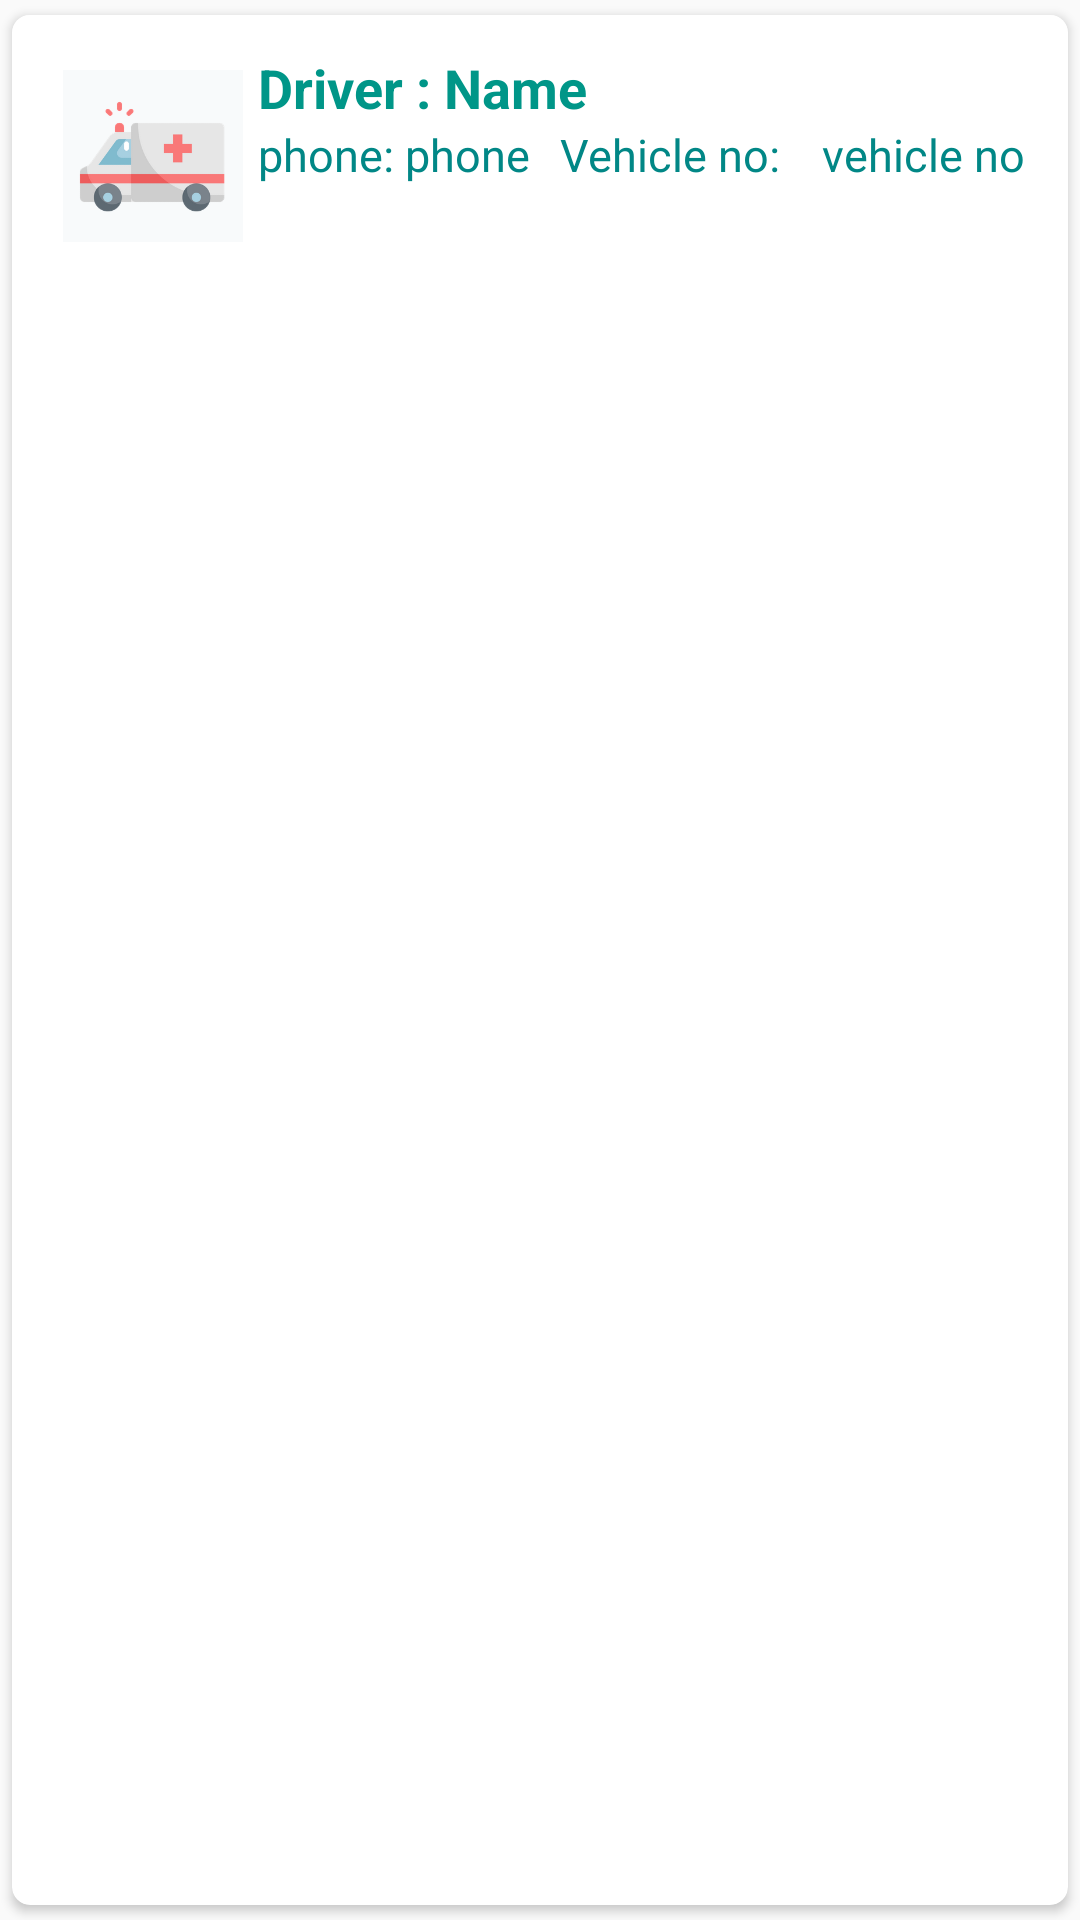

Icon bounding boxes for this 1080 x 1920 phone screenshot, format (x1, y1, x2, y2):
ambulance: (80, 102, 225, 212)
